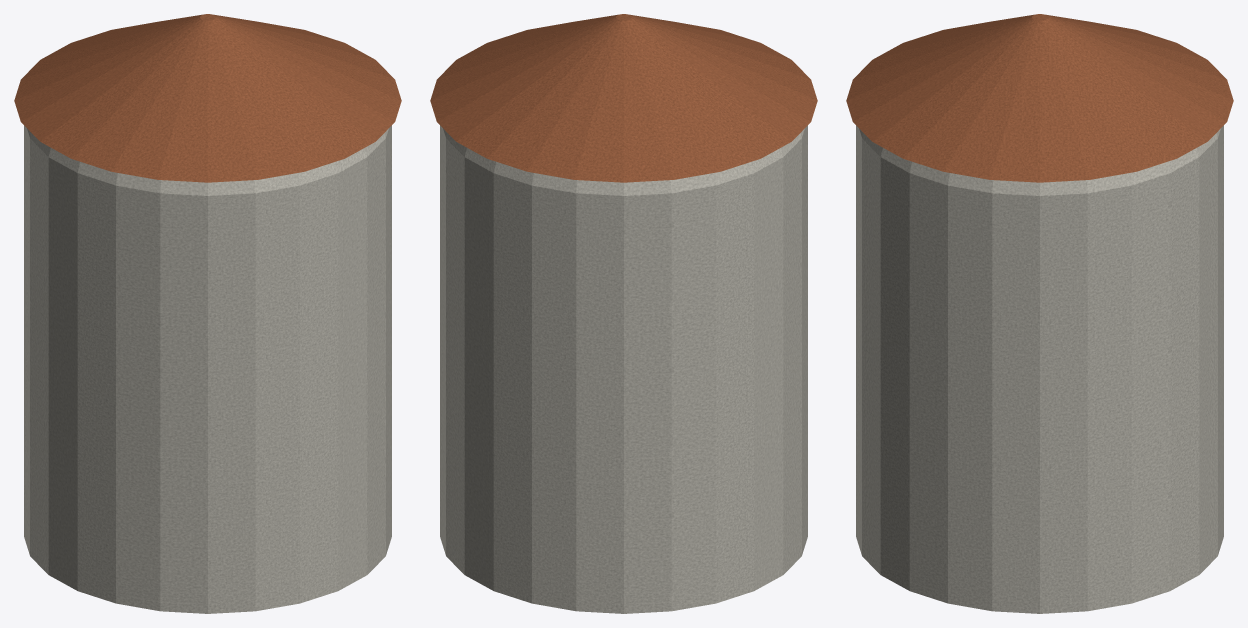
The model's file is WATRTNK2_lod2.glb.
3 views of the same model, side by side, from view 1: azimuth 30°, elevation 25°; view 2: azimuth 150°, elevation 25°; view 3: azimuth 270°, elevation 25° (orthographic).
Visible parts, largest first — view 1: WATRTNK2_LOD2; view 2: WATRTNK2_LOD2; view 3: WATRTNK2_LOD2.
Boxes of the visible parts, bbox=[...] form: WATRTNK2_LOD2: bbox=[14, 14, 401, 613]; WATRTNK2_LOD2: bbox=[430, 14, 817, 613]; WATRTNK2_LOD2: bbox=[846, 14, 1233, 613].
Bounding box in the file's own units: 4.84 × 7.15 × 4.84.
2 materials, 2 textured.
